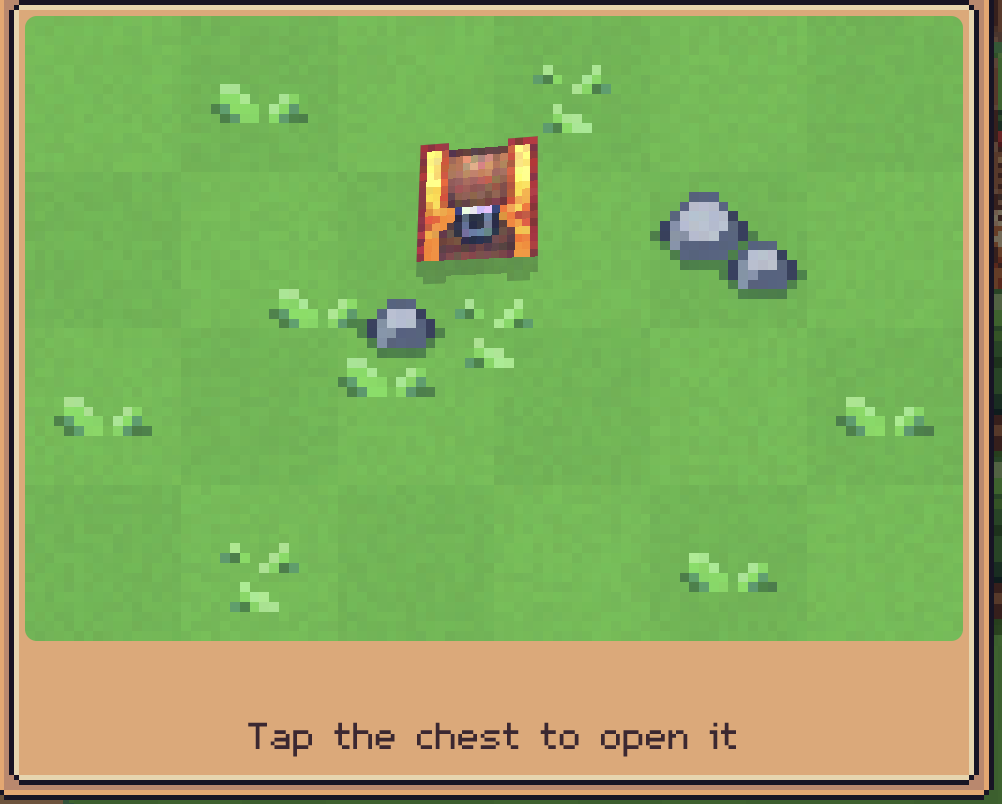capcha_chest: (410, 136, 540, 265)
